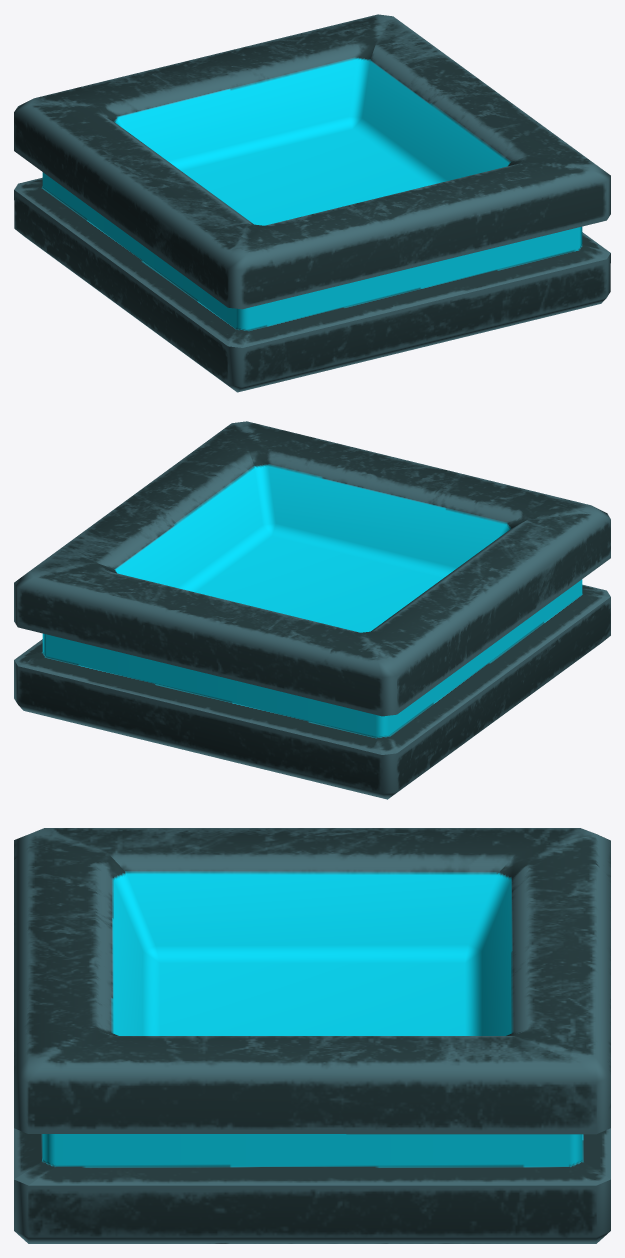
The model's file is SM_Props_49.fbx.
3 renders of one model, top to bottom at view 1: azimuth 30°, elevation 25°; view 2: azimuth 150°, elevation 25°; view 3: azimuth 270°, elevation 25°, orthographic. The views are drawn at different scales.
Visible parts, largest first — view 1: SM_Props_49; view 2: SM_Props_49; view 3: SM_Props_49.
Boxes of the visible parts, bbox=[...] form: SM_Props_49: bbox=[14, 14, 610, 392]; SM_Props_49: bbox=[14, 421, 610, 799]; SM_Props_49: bbox=[14, 828, 610, 1243].
Bounding box in the file's own units: 49.09 × 49.88 × 16.6.
